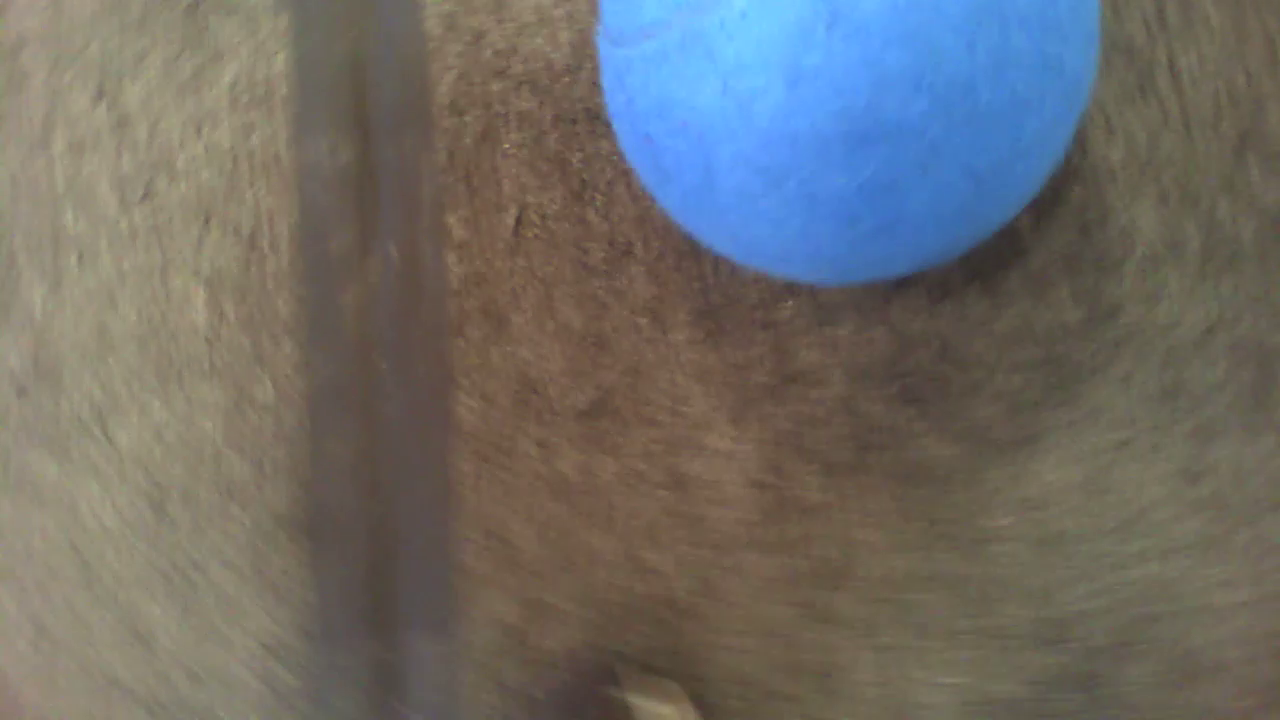blue_cargo: (571, 1, 1120, 299)
